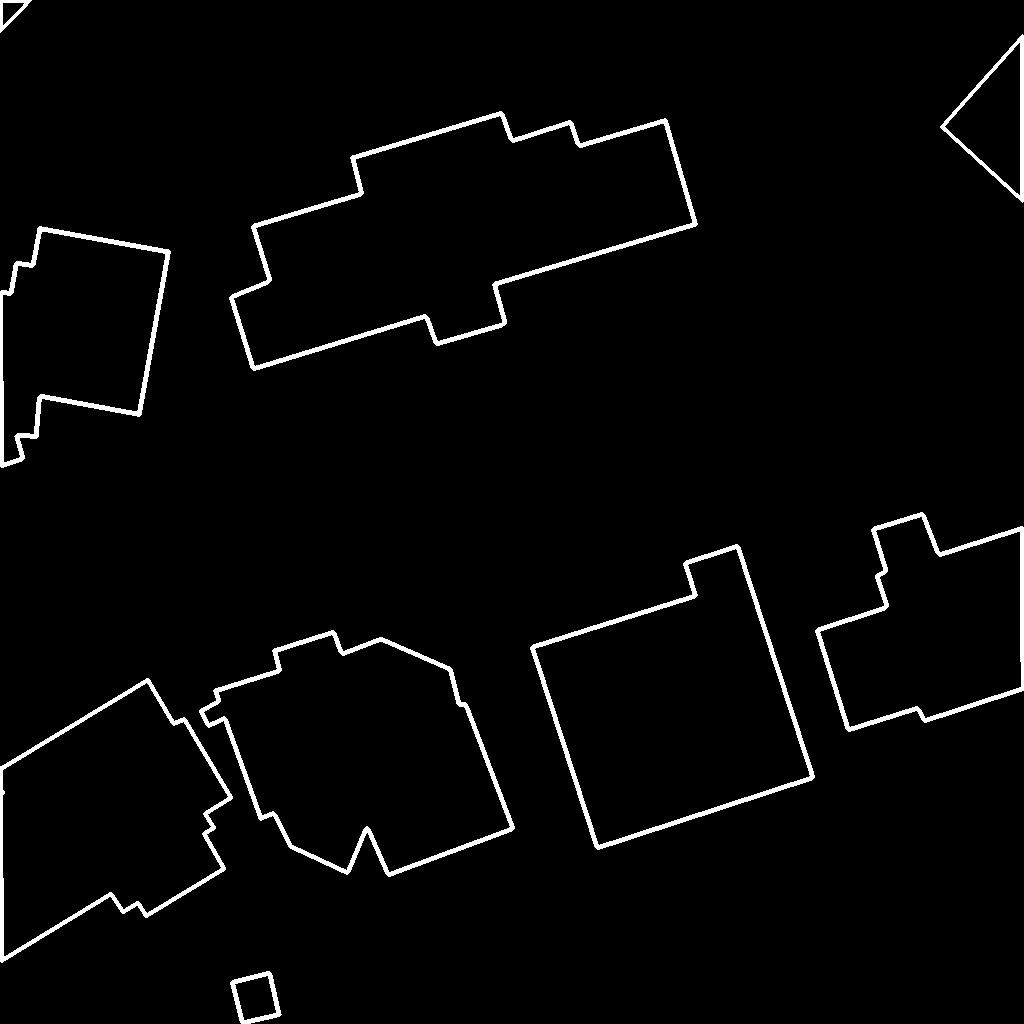building: (231, 113, 697, 370), (532, 546, 814, 849), (201, 632, 514, 876), (0, 680, 232, 962), (817, 514, 1024, 731), (0, 228, 170, 467), (942, 36, 1024, 202), (232, 973, 280, 1024), (0, 0, 32, 32)
